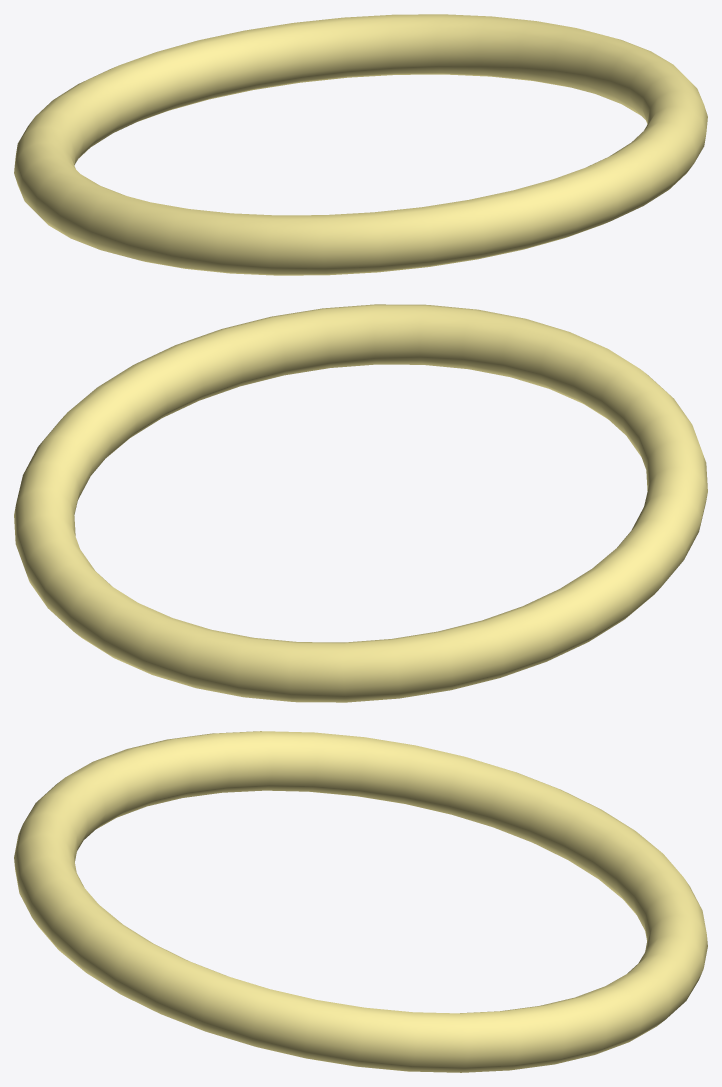
File: halo.glb
3 views of the same model, one above another, from view 1: azimuth 30°, elevation 25°; view 2: azimuth 150°, elevation 25°; view 3: azimuth 270°, elevation 25° (orthographic).
Parts seen in each view (by area): view 1: Halo; view 2: Halo; view 3: Halo.
Part boxes in pixels (<box>): Halo: <box>14,14,707,275</box>; Halo: <box>14,304,707,702</box>; Halo: <box>14,731,707,1072</box>.
Size of the model in its own units: 0.276 by 0.0591 by 0.2733.
